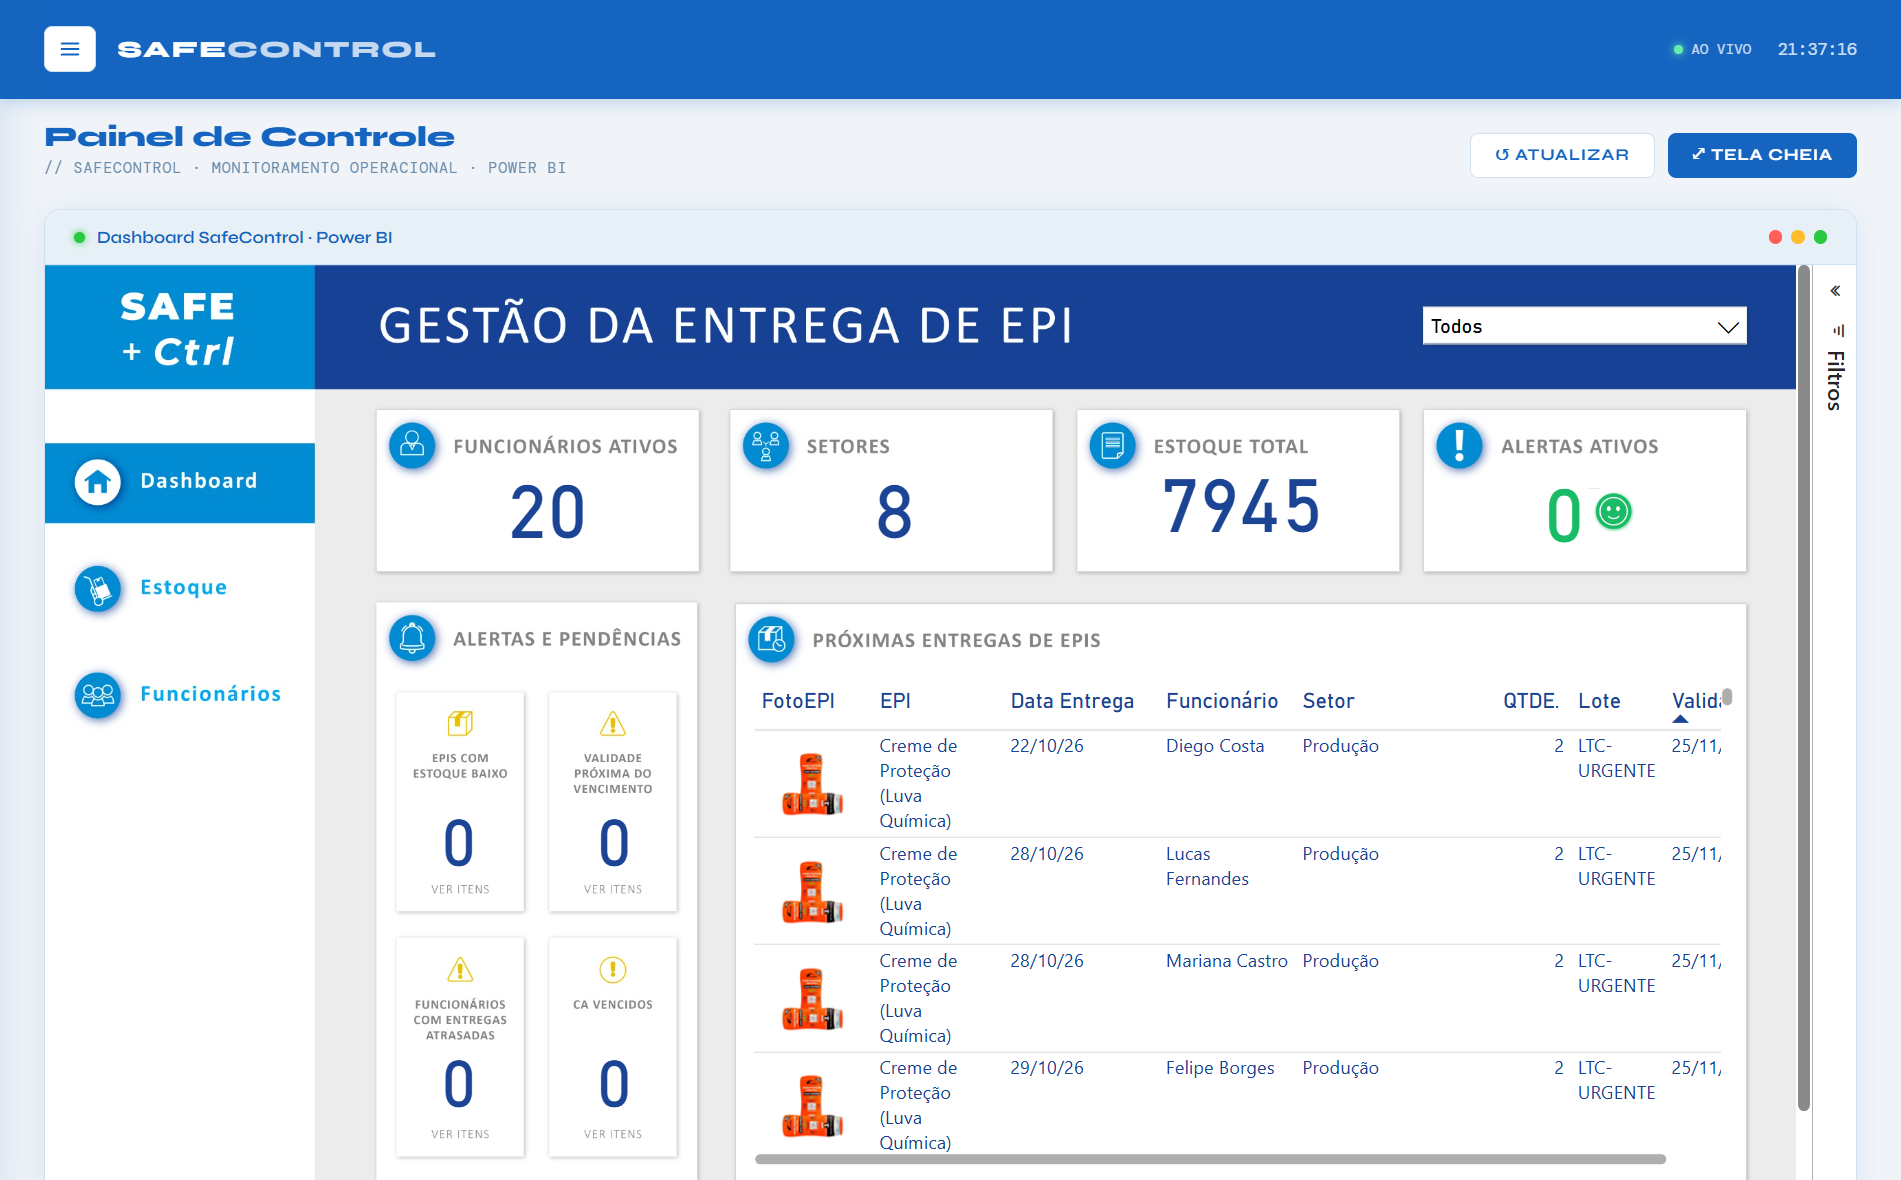

The page's visual inventory and layout, read from the dashboard file:
{"tool":"powerbi","page":{"name":"Dashboard","canvas":[1280,720],"ordinal":0},"visuals":[{"type":"multiRowCard","fields":{"Values":["Funcionarios.IdFuncionario"]},"box":[331,140,76,86],"z":0},{"type":"multiRowCard","fields":{"Values":["Funcionarios.Setor"]},"box":[598,140,50,86],"z":1000},{"type":"multiRowCard","fields":{"Values":["Sum(Lotes.QuantidadeAtual)"]},"box":[805,136.2,164,86],"z":2000},{"type":"tableEx","title":"Historico Entregas","fields":{"Values":["EPIs.FotoEPI","EPIs.Nome","Entregas.DataEntrega","Funcionarios.Nome","Funcionarios.Setor","Sum(ItensEntrega.Quantidade)","Lotes.NumeroLote","Lotes.DataValidade"]},"box":[510,302,723,358],"z":3000},{"type":"slicer","fields":{"Values":["Funcionarios.Setor"]},"box":[992.3,20,255.4,42.3],"z":4000},{"type":"actionButton","box":[13.8,213.8,183.8,45],"z":5000},{"type":"actionButton","box":[13.8,288.8,183.8,45],"z":6000},{"type":"multiRowCard","fields":{"Values":["EPIs.Total Alertas"]},"box":[1085,143,51,71],"z":7000},{"type":"tableEx","fields":{"Values":["EPIs.URL Smile"]},"box":[1115,138,69,71],"z":8000},{"type":"multiRowCard","fields":{"Values":["Lotes.Qtd Estoque BaixoS"]},"box":[283,385,55,86],"z":9000},{"type":"multiRowCard","fields":{"Values":["EPIs.Qtd EPIs Para Vencer"]},"box":[396,385,55,86],"z":10000},{"type":"multiRowCard","fields":{"Values":["EPIs.Qtd EPIs Vencidos"]},"box":[396,560,55,86],"z":11000},{"type":"multiRowCard","fields":{"Values":["EPIs.Qtd Pendente"]},"box":[283,560,38,77],"z":12000},{"type":"actionButton","box":[257,492,92,154],"z":13000},{"type":"actionButton","box":[257,315,88,156],"z":14000},{"type":"actionButton","box":[369,490,88,156],"z":15000}]}

Visuals, with their boxes on the page's 1280x720 design canvas (x1, y1, x2, y2). These are canvas units, not pixel positions in the 1901x1180 screenshot, which may show the page scaled, cropped or inside an application window:
multiRowCard - Funcionarios.IdFuncionario: rect(331, 140, 407, 226)
multiRowCard - Funcionarios.Setor: rect(598, 140, 648, 226)
multiRowCard - Sum(Lotes.QuantidadeAtual): rect(805, 136, 969, 222)
"Historico Entregas" tableEx: rect(510, 302, 1233, 660)
slicer - Funcionarios.Setor: rect(992, 20, 1248, 62)
actionButton: rect(14, 214, 198, 259)
actionButton: rect(14, 289, 198, 334)
multiRowCard - EPIs.Total Alertas: rect(1085, 143, 1136, 214)
tableEx - EPIs.URL Smile: rect(1115, 138, 1184, 209)
multiRowCard - Lotes.Qtd Estoque BaixoS: rect(283, 385, 338, 471)
multiRowCard - EPIs.Qtd EPIs Para Vencer: rect(396, 385, 451, 471)
multiRowCard - EPIs.Qtd EPIs Vencidos: rect(396, 560, 451, 646)
multiRowCard - EPIs.Qtd Pendente: rect(283, 560, 321, 637)
actionButton: rect(257, 492, 349, 646)
actionButton: rect(257, 315, 345, 471)
actionButton: rect(369, 490, 457, 646)
